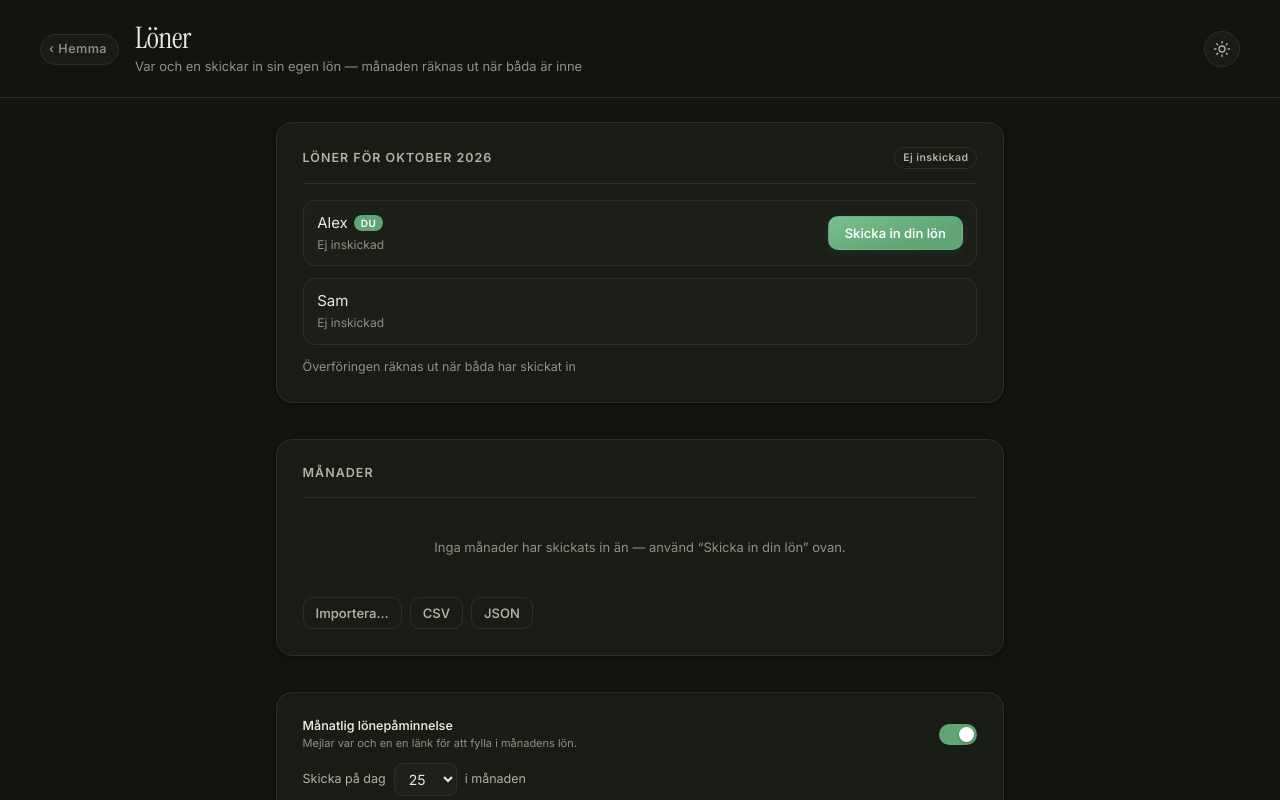
it: Submitting your own half › shows the Swedish forbidden message when the server rejects the slot
Click the button "Skicka in din lön".
click(895, 233)  # box x1=828 y1=216 x2=963 y2=250
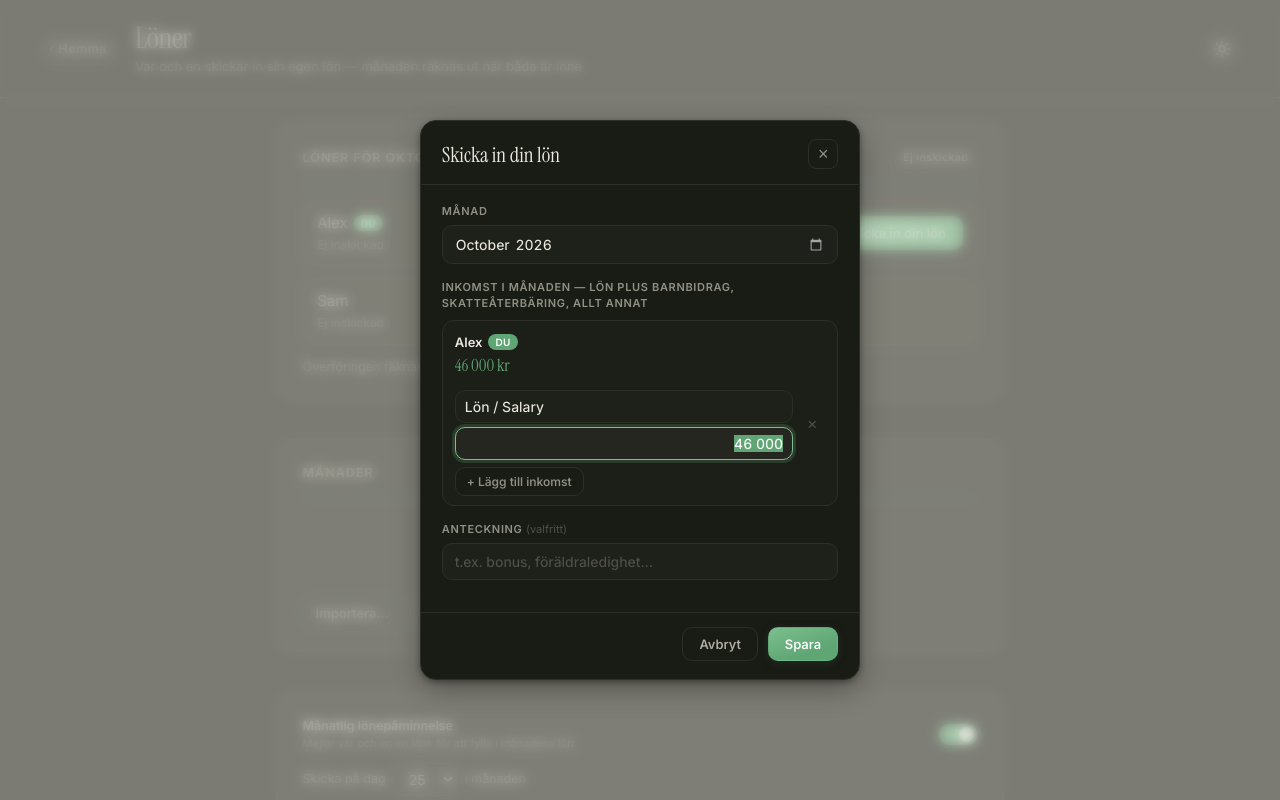
Click the button "Spara".
click(803, 644)  # box x1=768 y1=627 x2=838 y2=661
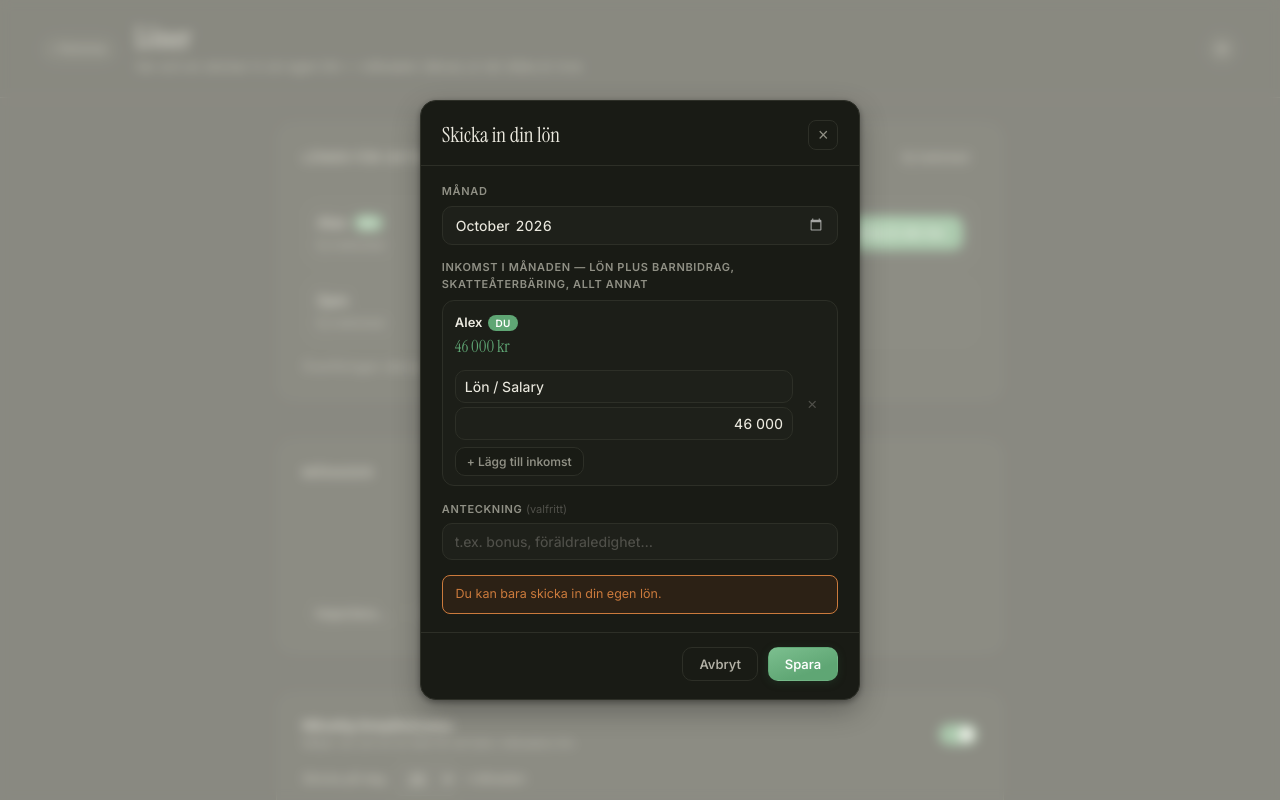
Expected: the message reads "Du kan bara skicka in din egen lön.", x1=456 y1=586 x2=662 y2=601
